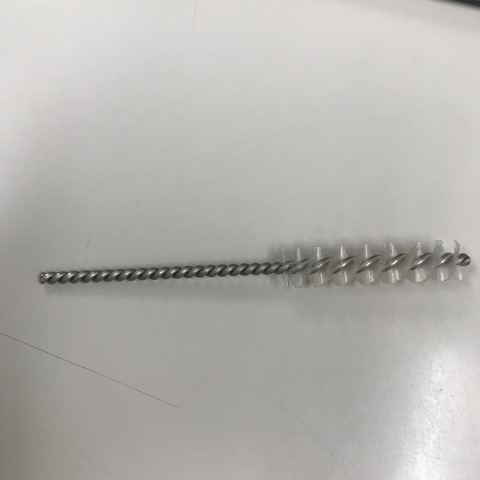Twist Brush-B: (33, 240, 470, 301)
